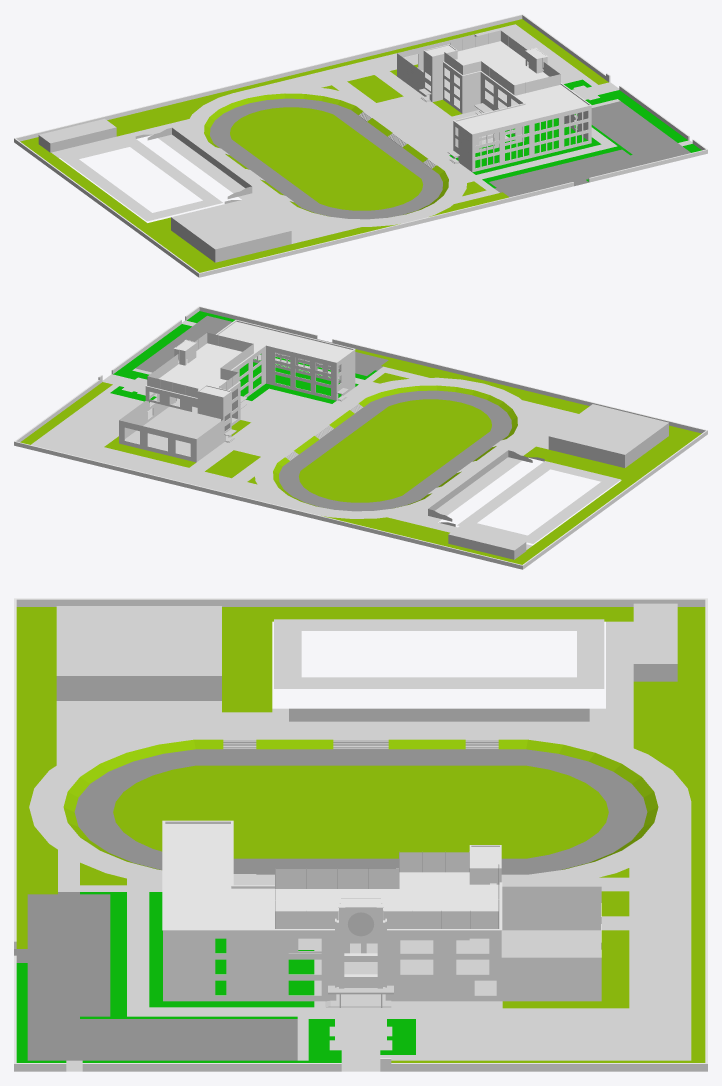
Rendered from cntr_school.glb.
3 views of the same model, one above another, from view 1: azimuth 30°, elevation 25°; view 2: azimuth 150°, elevation 25°; view 3: azimuth 270°, elevation 25° (orthographic). The views are drawn at different scales.
Visible parts, largest first — view 1: school_grounds-col, G-__815223, exterior_walls-col, school_wall-col, G-__815250, G-__815259, G-__821199, G-__814350, G-__821217, G-__814413, G-__814629, G-__821181 (+2 smaller); view 2: school_grounds-col, G-__815223, exterior_walls-col, school_wall-col, G-__815250, G-__815259, G-__821199, G-__814350, G-__821217, G-__814413, G-__814629, G-__821181 (+2 smaller); view 3: school_grounds-col, G-__815223, exterior_walls-col, G-__815250, G-__815259, G-__821199, school_wall-col, G-__814350, G-__821217, G-__814629, G-__814413, G-__821181 (+3 smaller).
Boxes of the visible parts, bbox=[...] form: school_grounds-col: bbox=[20, 19, 701, 272]; G-__815223: bbox=[210, 98, 442, 219]; exterior_walls-col: bbox=[397, 34, 591, 172]; school_wall-col: bbox=[14, 14, 707, 277]; G-__815250: bbox=[242, 120, 411, 197]; G-__815259: bbox=[171, 198, 291, 262]; G-__821199: bbox=[455, 41, 588, 133]; G-__814350: bbox=[59, 138, 222, 221]; G-__821217: bbox=[444, 30, 560, 95]; G-__814413: bbox=[38, 118, 116, 152]; G-__814629: bbox=[135, 127, 252, 203]; G-__821181: bbox=[443, 61, 591, 134]; school_grounds-col: bbox=[20, 311, 701, 564]; G-__815223: bbox=[279, 390, 511, 511]; exterior_walls-col: bbox=[119, 346, 355, 462]; school_wall-col: bbox=[14, 306, 707, 569]; G-__815250: bbox=[310, 412, 479, 489]; G-__815259: bbox=[548, 404, 668, 467]; G-__821199: bbox=[159, 321, 351, 390]; G-__814350: bbox=[457, 461, 620, 543]; G-__821217: bbox=[147, 332, 253, 397]; G-__814413: bbox=[448, 526, 526, 559]; G-__814629: bbox=[428, 450, 544, 526]; G-__821181: bbox=[145, 320, 355, 398]; school_grounds-col: bbox=[14, 607, 705, 1071]; G-__815223: bbox=[74, 749, 647, 874]; exterior_walls-col: bbox=[163, 873, 601, 1001]; G-__815250: bbox=[223, 767, 498, 855]; G-__815259: bbox=[56, 606, 221, 700]; G-__821199: bbox=[165, 824, 499, 928]; school_wall-col: bbox=[14, 598, 707, 1071]; G-__814350: bbox=[274, 619, 604, 688]; G-__821217: bbox=[275, 852, 498, 928]; G-__814629: bbox=[289, 708, 589, 721]; G-__814413: bbox=[633, 603, 677, 681]; G-__821181: bbox=[162, 820, 502, 930].
Size of the model in its own units: 200 by 20.4 by 126.
